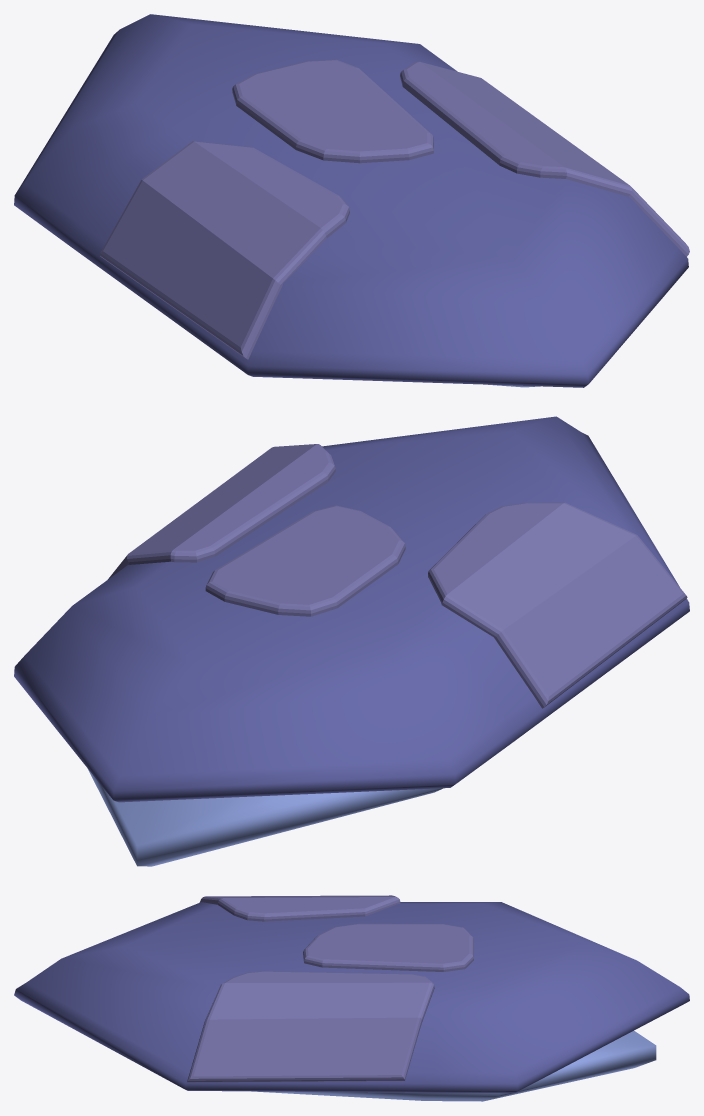
Rendered from TBody.fbx.
The picture shows the model from 3 angles, top to bottom: view 1: azimuth 30°, elevation 25°; view 2: azimuth 150°, elevation 25°; view 3: azimuth 270°, elevation 25°; orthographic projection. The views are drawn at different scales.
Visible parts, largest first — view 1: TBody; view 2: TBody; view 3: TBody.
Part boxes in pixels (x1=…): TBody: x1=14, y1=14, x2=689, y2=387; TBody: x1=14, y1=416, x2=689, y2=866; TBody: x1=14, y1=895, x2=689, y2=1101.
Bounding box in the file's own units: 310 × 124 × 571.
